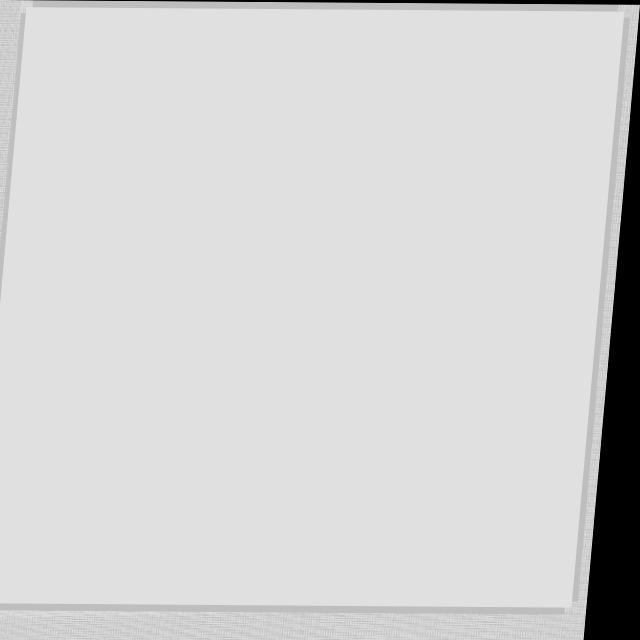qr_code: (0, 7, 625, 607)
